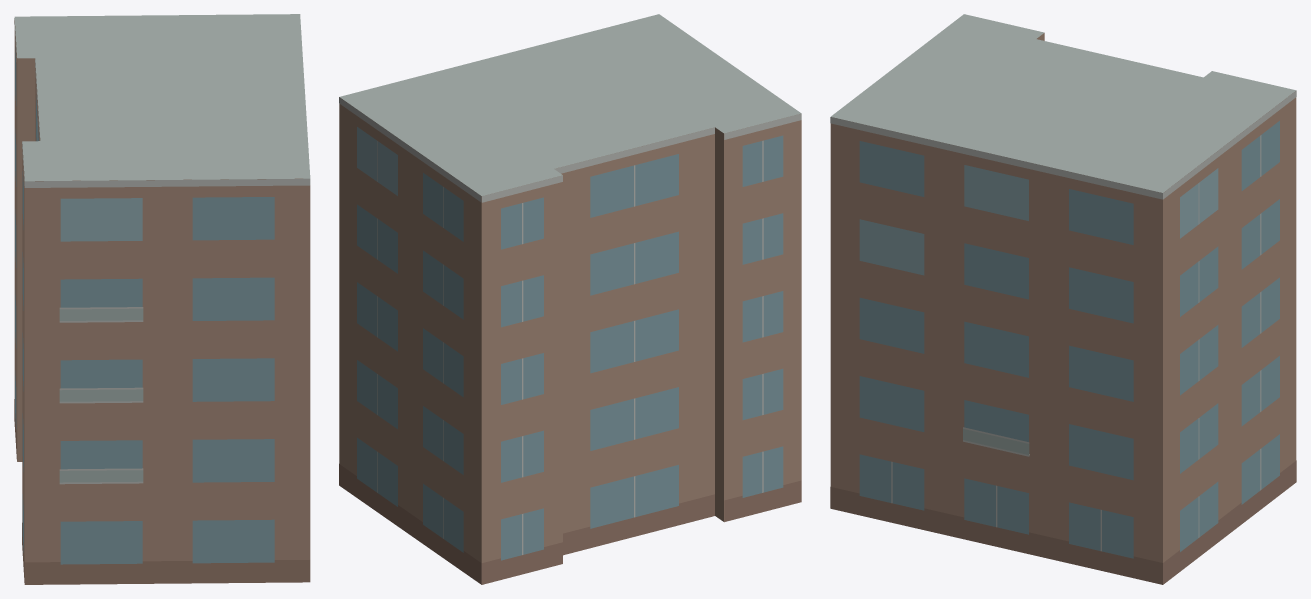
File: survey-upis-32656151.glb
The picture shows the model from 3 angles, left to right: view 1: azimuth 30°, elevation 25°; view 2: azimuth 150°, elevation 25°; view 3: azimuth 270°, elevation 25°; orthographic projection. The views are drawn at different scales.
Parts seen in each view (by area): view 1: survey-upis-32656151.tmp; view 2: survey-upis-32656151.tmp; view 3: survey-upis-32656151.tmp.
Boxes of the visible parts, <box> form: survey-upis-32656151.tmp: <box>14,14,310,584</box>; survey-upis-32656151.tmp: <box>339,14,801,584</box>; survey-upis-32656151.tmp: <box>830,14,1296,584</box>.
Bounding box in the file's own units: 14.12 × 14.4 × 15.53.
